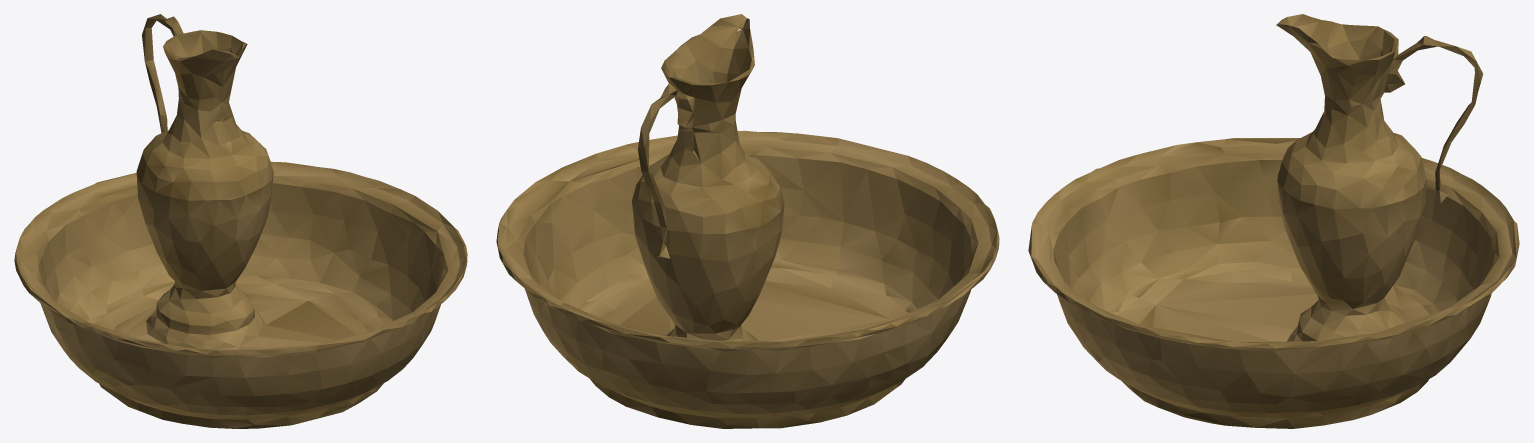
The model's file is basin_ewer.glb.
3 views of the same model, side by side, from view 1: azimuth 30°, elevation 25°; view 2: azimuth 150°, elevation 25°; view 3: azimuth 270°, elevation 25° (orthographic). The views are drawn at different scales.
Parts seen in each view (by area): view 1: basin_ewer; view 2: basin_ewer; view 3: basin_ewer.
Boxes of the visible parts, x1,y1,x2,y2 form: basin_ewer: [14, 14, 467, 428]; basin_ewer: [496, 14, 999, 428]; basin_ewer: [1028, 14, 1519, 428].
Size of the model in its own units: 1.4 by 1.07 by 1.4.
